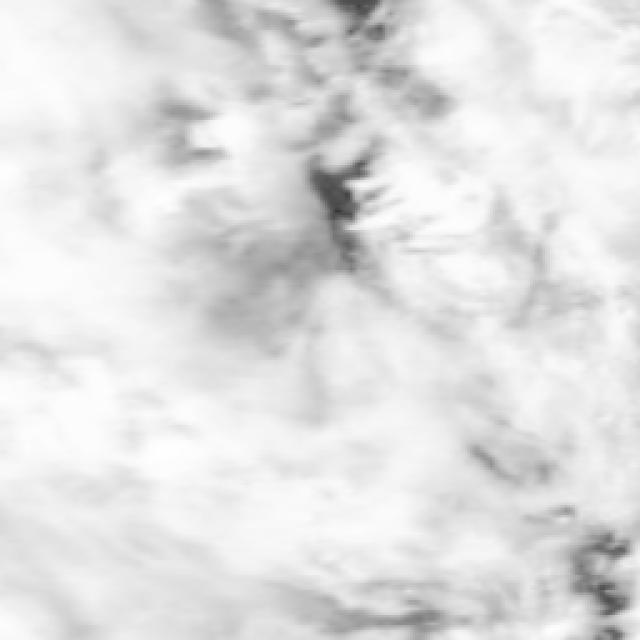CB: (0, 382, 225, 638), (225, 383, 437, 640), (435, 0, 640, 252), (0, 205, 252, 389), (385, 256, 640, 437), (2, 5, 220, 212), (435, 425, 565, 640)
